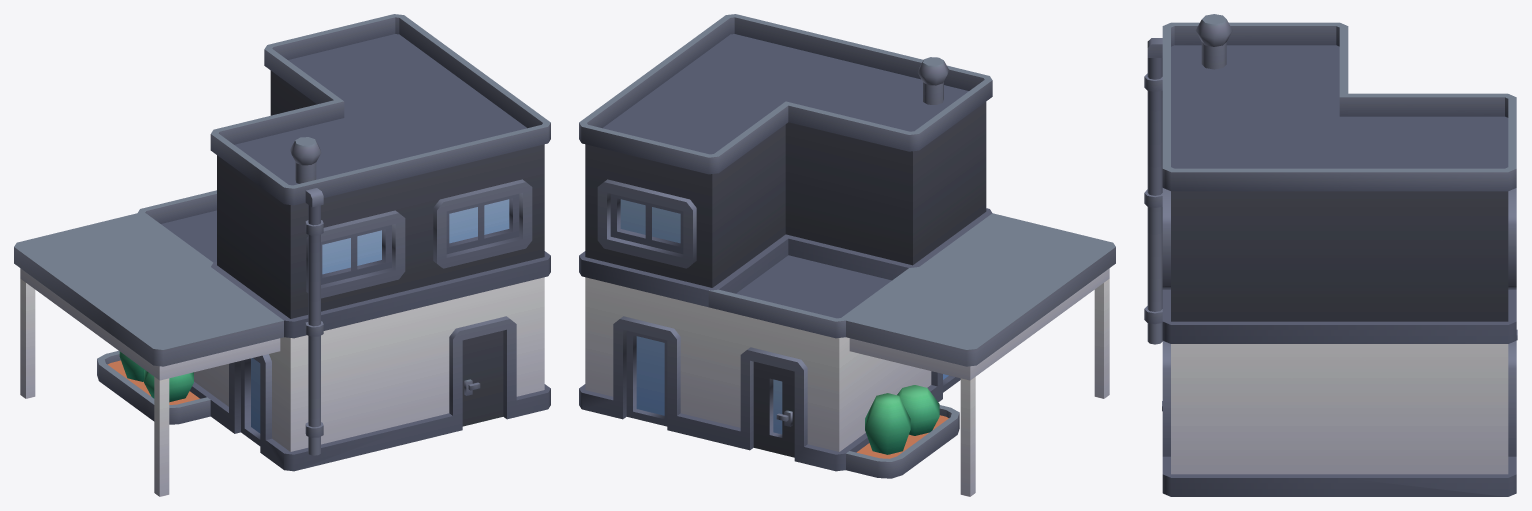
The model's file is k-city-kit-suburban-building-type-q.glb.
3 renders of one model, left to right at view 1: azimuth 30°, elevation 25°; view 2: azimuth 150°, elevation 25°; view 3: azimuth 270°, elevation 25°, orthographic. The views are drawn at different scales.
Parts seen in each view (by area): view 1: building-type-q; view 2: building-type-q; view 3: building-type-q.
Boxes of the visible parts, bbox=[...] form: building-type-q: bbox=[14, 14, 550, 496]; building-type-q: bbox=[579, 14, 1115, 496]; building-type-q: bbox=[1144, 14, 1517, 496].
Bounding box in the file's own units: 1.24 × 0.918 × 0.8856.
1 material, 1 textured.
